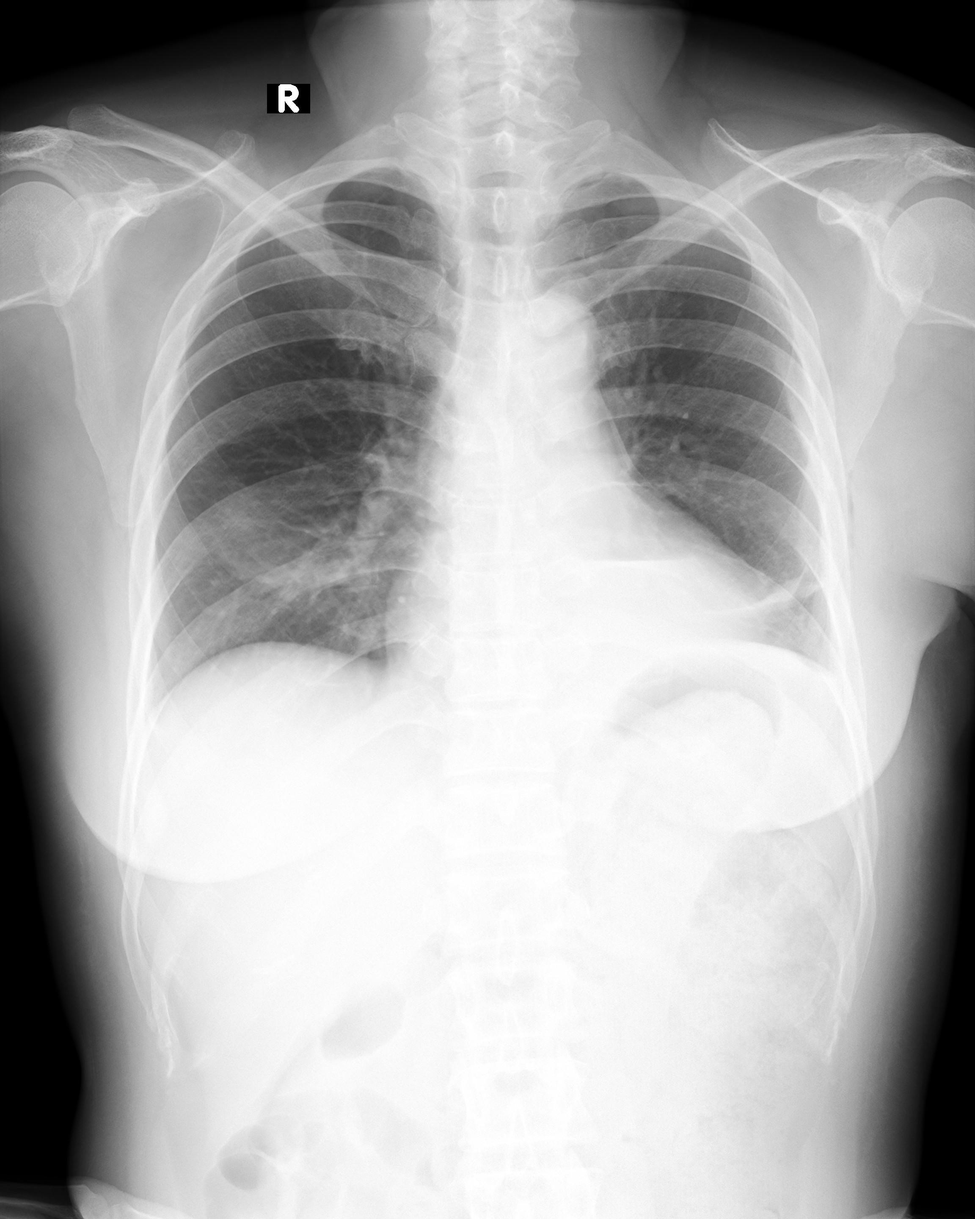Cardiomegaly: (383, 574, 771, 695)
Pleural thickening: (575, 199, 695, 220)
Pulmonary fibrosis: (704, 556, 832, 607)
